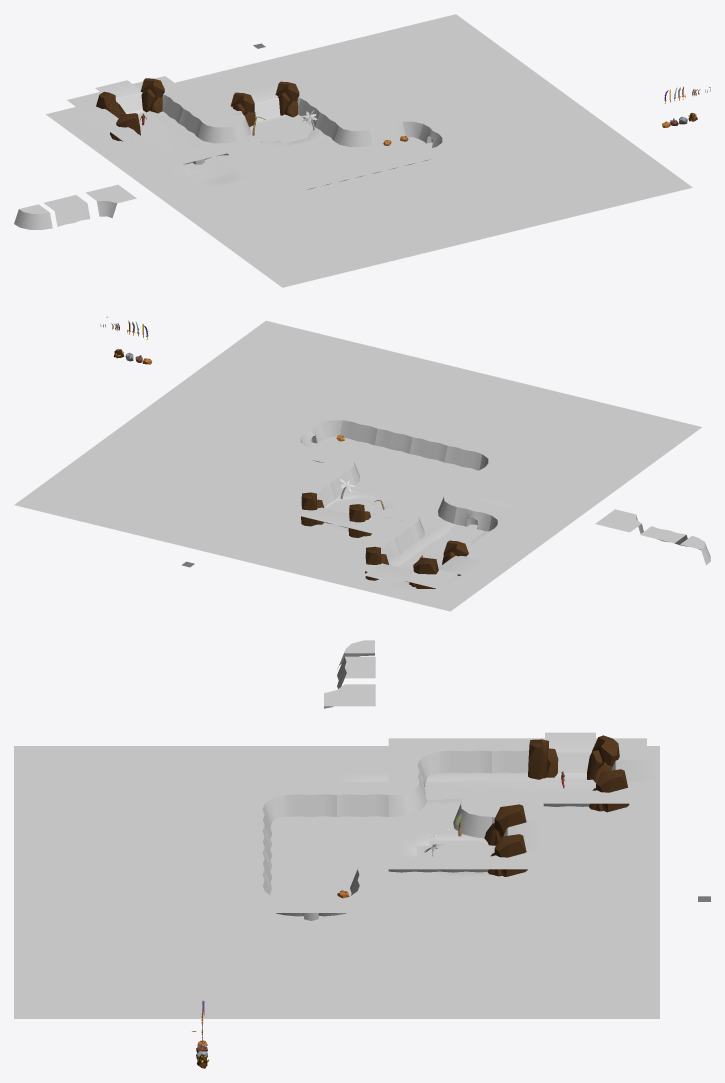
File: WorldMap_Geo.fbx
The picture shows the model from 3 angles, top to bottom: view 1: azimuth 30°, elevation 25°; view 2: azimuth 150°, elevation 25°; view 3: azimuth 270°, elevation 25°; orthographic projection. The views are drawn at different scales.
Parts seen in each view (by area): view 1: Plane001, Box019, WaterFalls, Bolder_Geo002, Box001, Box002, Box045, Tunnel_To_Mines; view 2: Plane001, Box019, WaterFalls, Bolder_Geo002, Tunnel_To_Mines, Box002, Box001; view 3: Plane001, Box019, WaterFalls, Bolder_Geo002, Box002, Tunnel_To_Mines, Box001.
Part boxes in pixels (left/top/right/bottom): Plane001: left=46, top=14, right=692, bottom=287; Box019: left=67, top=76, right=480, bottom=194; WaterFalls: left=78, top=80, right=312, bottom=171; Bolder_Geo002: left=96, top=78, right=299, bottom=141; Box001: left=44, top=195, right=90, bottom=226; Box002: left=86, top=184, right=136, bottom=218; Box045: left=14, top=204, right=52, bottom=229; Tunnel_To_Mines: left=418, top=119, right=461, bottom=147; Plane001: left=14, top=320, right=701, bottom=611; Box019: left=260, top=403, right=538, bottom=588; WaterFalls: left=295, top=498, right=485, bottom=583; Bolder_Geo002: left=301, top=492, right=468, bottom=588; Tunnel_To_Mines: left=280, top=417, right=325, bottom=448; Box002: left=595, top=509, right=643, bottom=533; Box001: left=640, top=526, right=687, bottom=546; Plane001: left=14, top=746, right=659, bottom=1018; Box019: left=233, top=738, right=646, bottom=915; WaterFalls: left=417, top=732, right=659, bottom=856; Bolder_Geo002: left=484, top=735, right=629, bottom=876; Box002: left=324, top=684, right=375, bottom=708; Tunnel_To_Mines: left=285, top=900, right=336, bottom=920; Box001: left=337, top=656, right=375, bottom=688.
Bounding box in the file's own units: 152 × 9.5 × 106.
Materials: 2 (1 with a texture image).
